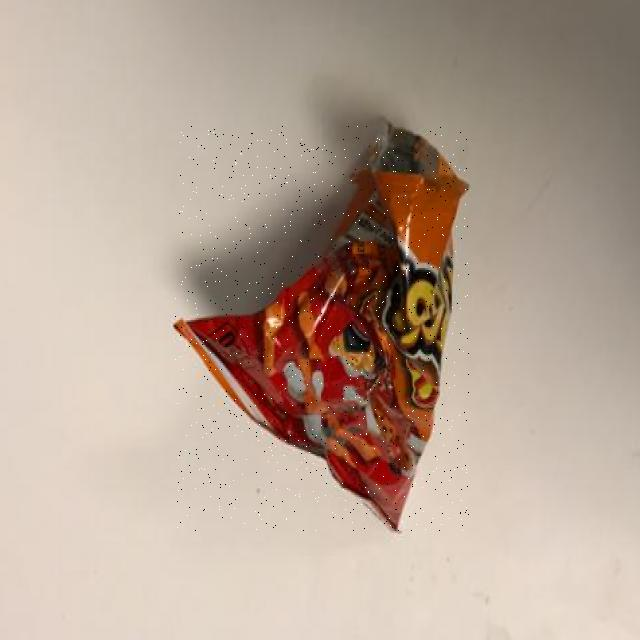wrapper: (175, 126, 469, 531)
